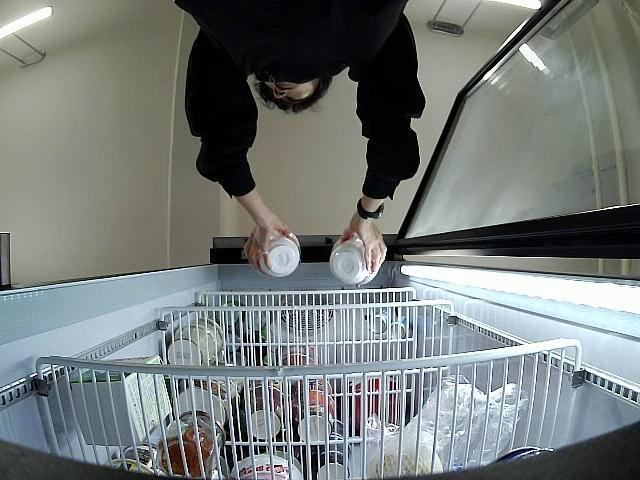09_yukGaeJang: (330, 239, 380, 286), (254, 230, 301, 280)
